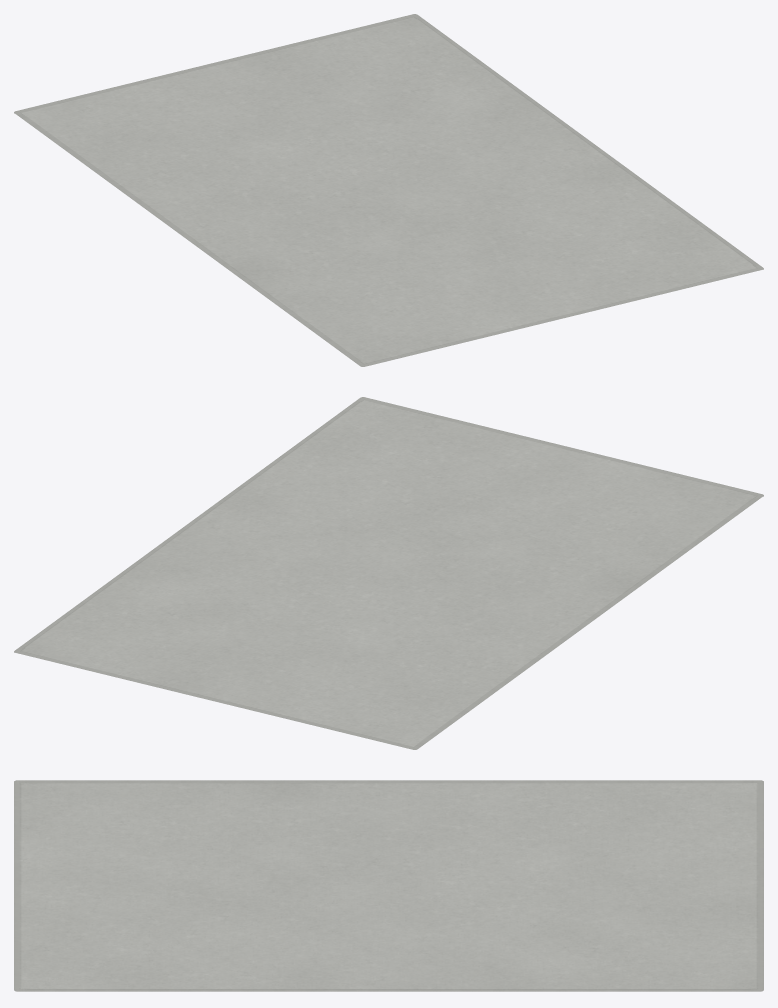
Rendered from gray_XL.glb.
3 views of the same model, one above another, from view 1: azimuth 30°, elevation 25°; view 2: azimuth 150°, elevation 25°; view 3: azimuth 270°, elevation 25° (orthographic). The views are drawn at different scales.
Visible parts, largest first — view 1: reliv_gray_XL; view 2: reliv_gray_XL; view 3: reliv_gray_XL.
Boxes of the visible parts, x1=… form: reliv_gray_XL: x1=14, y1=14, x2=763, y2=366; reliv_gray_XL: x1=14, y1=397, x2=763, y2=749; reliv_gray_XL: x1=14, y1=780, x2=763, y2=991.
Bounding box in the file's own units: 2 × 0.009 × 3.
2 materials, 1 textured.
